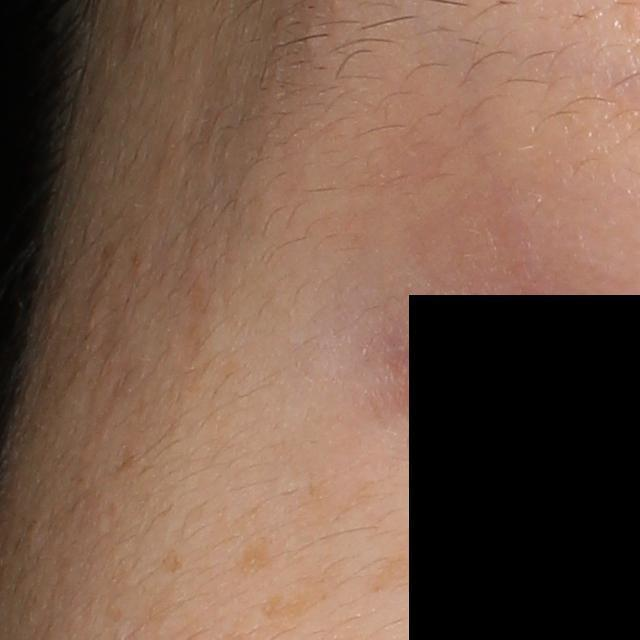melasma: (255, 568, 346, 625), (359, 545, 425, 597), (227, 532, 282, 579), (156, 545, 188, 575)
